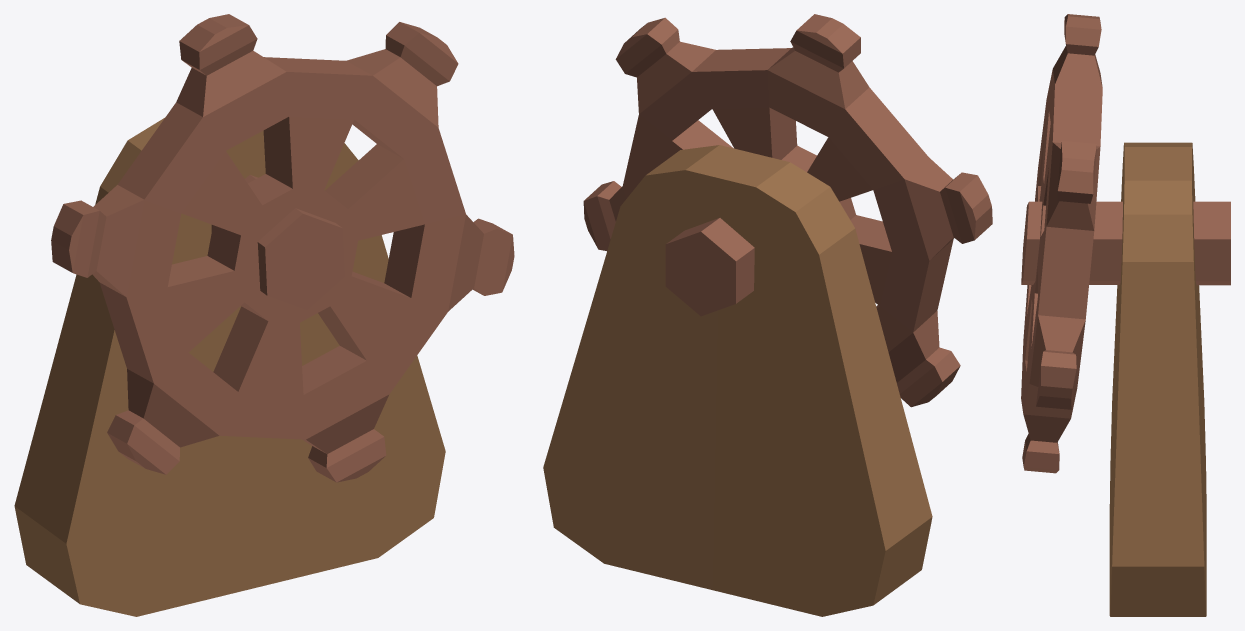
Rendered from Rudder.fbx.
3 renders of one model, left to right at view 1: azimuth 30°, elevation 25°; view 2: azimuth 150°, elevation 25°; view 3: azimuth 270°, elevation 25°, orthographic. The views are drawn at different scales.
Parts seen in each view (by area): view 1: Rudder; view 2: Rudder; view 3: Rudder.
Boxes of the visible parts, bbox=[...] form: Rudder: bbox=[14, 14, 514, 616]; Rudder: bbox=[543, 14, 992, 616]; Rudder: bbox=[1021, 14, 1230, 616].
Size of the model in its own units: 85.61 by 110 by 39.85.
